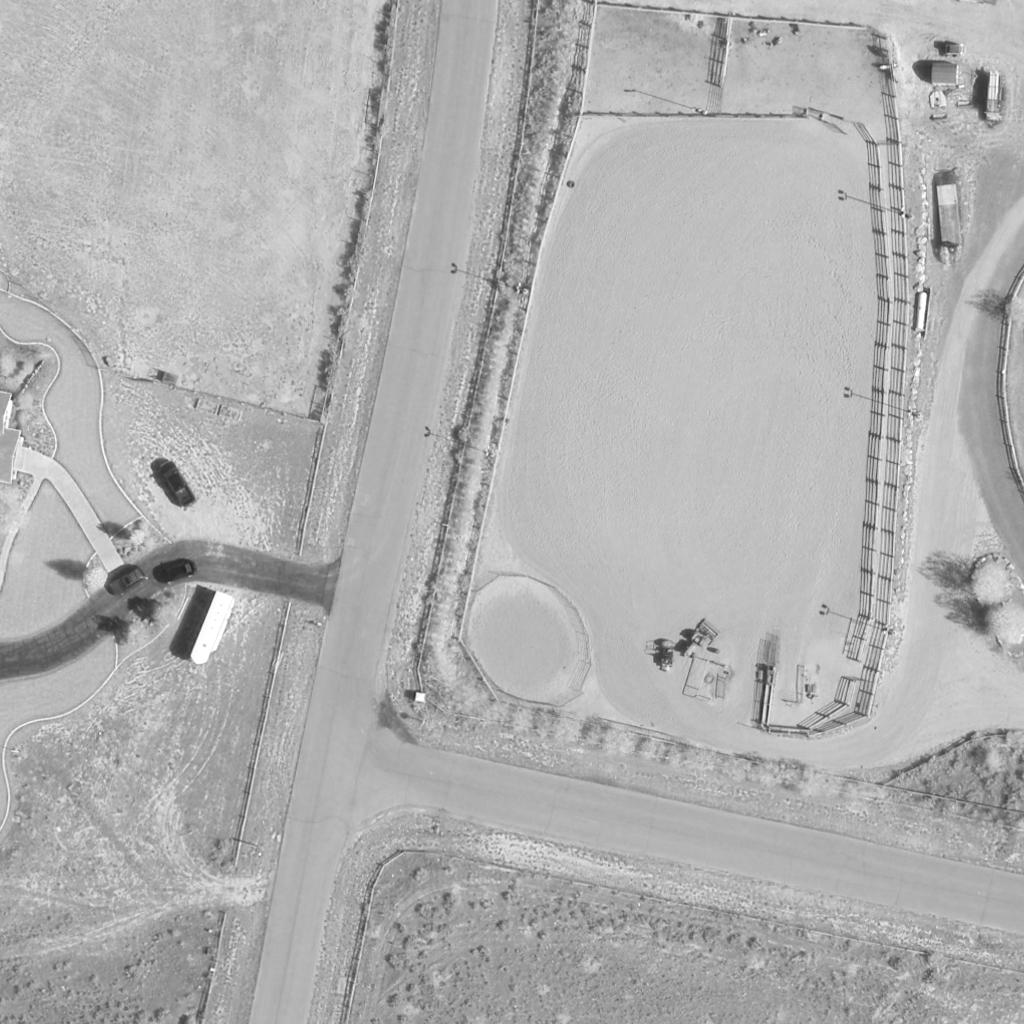vehicle: (189, 592, 235, 668), (160, 461, 194, 509), (107, 567, 145, 597), (677, 629, 711, 661), (153, 559, 201, 581), (660, 641, 676, 673)
